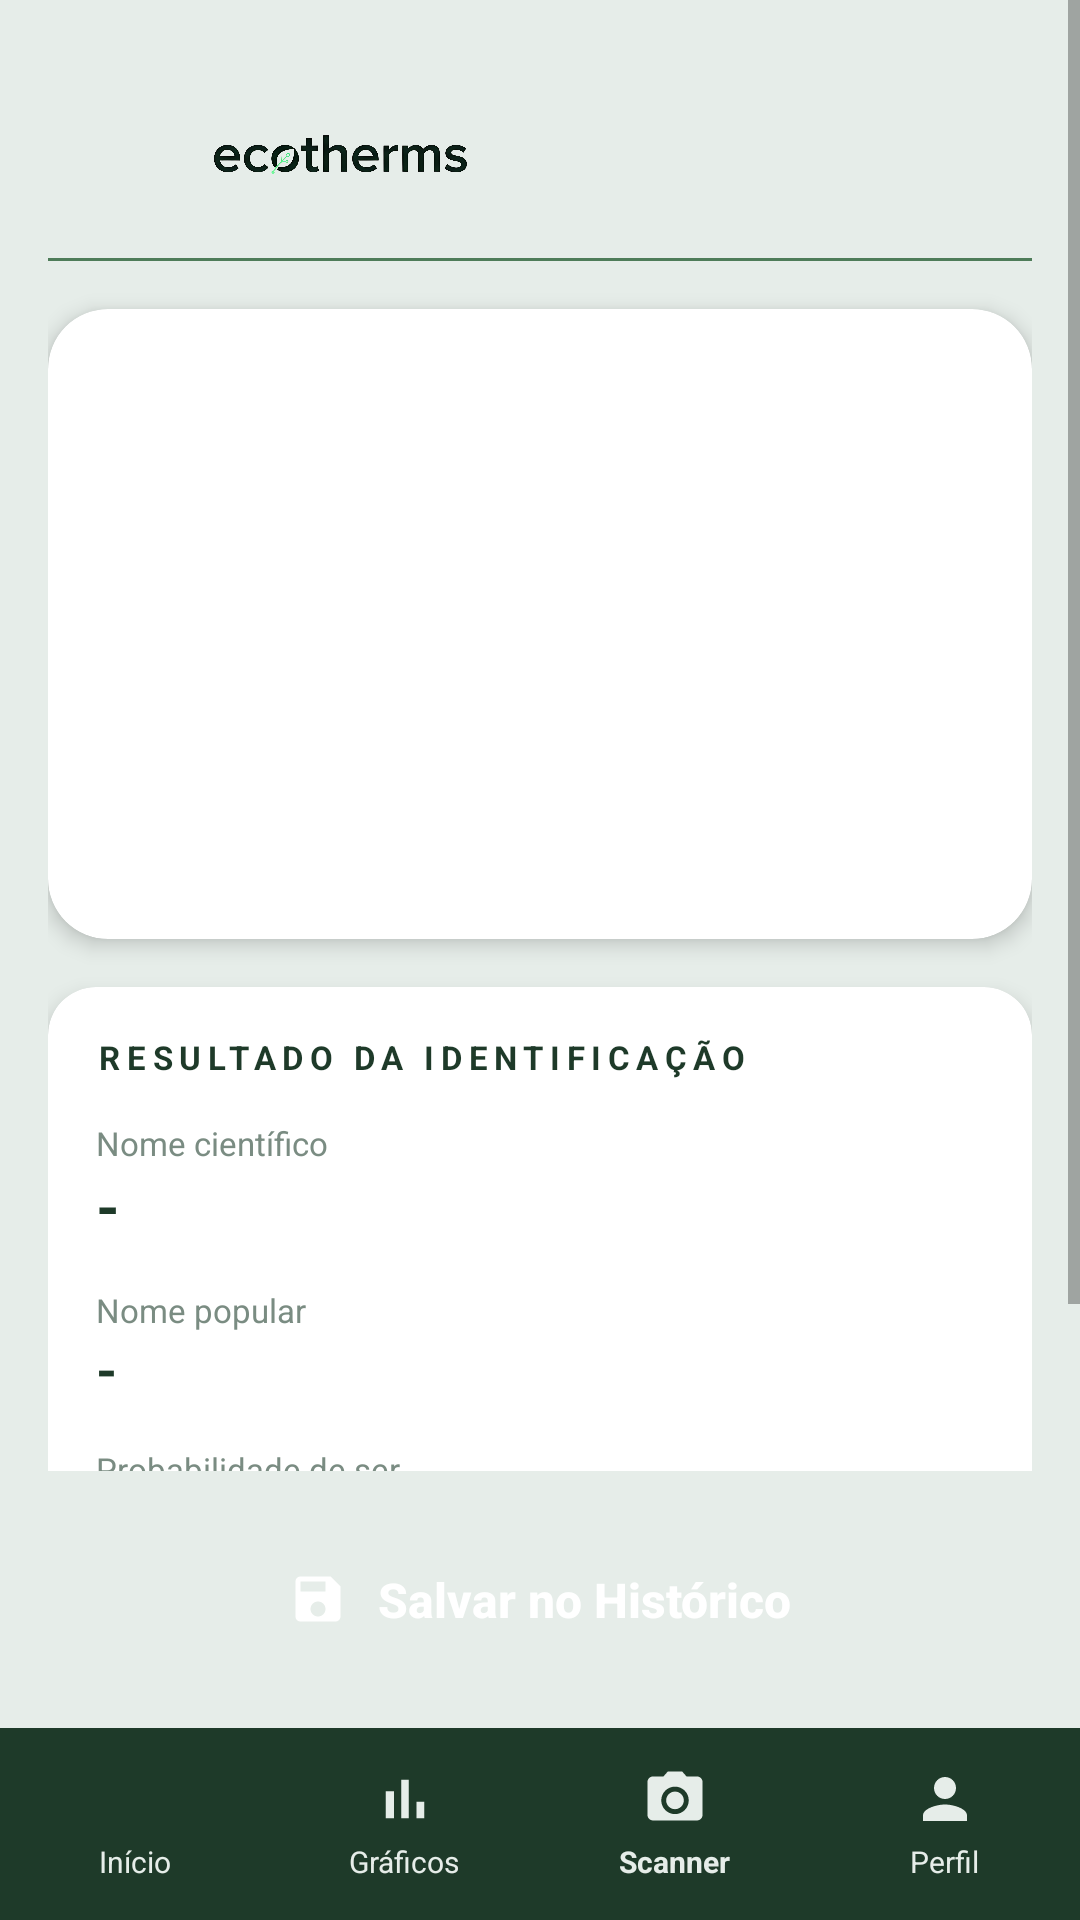

Screen size 1080×1920. Icon name, then its center in pixels as (x,y):
save: (318,1599)
